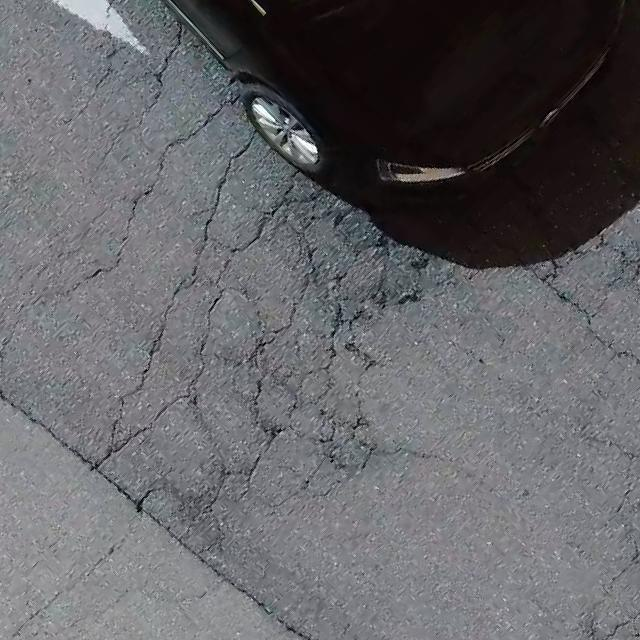GRIETA: (0, 392, 313, 639), (13, 527, 137, 638), (386, 448, 485, 486)
PIEL DE COCODRILO: (45, 0, 639, 639)
